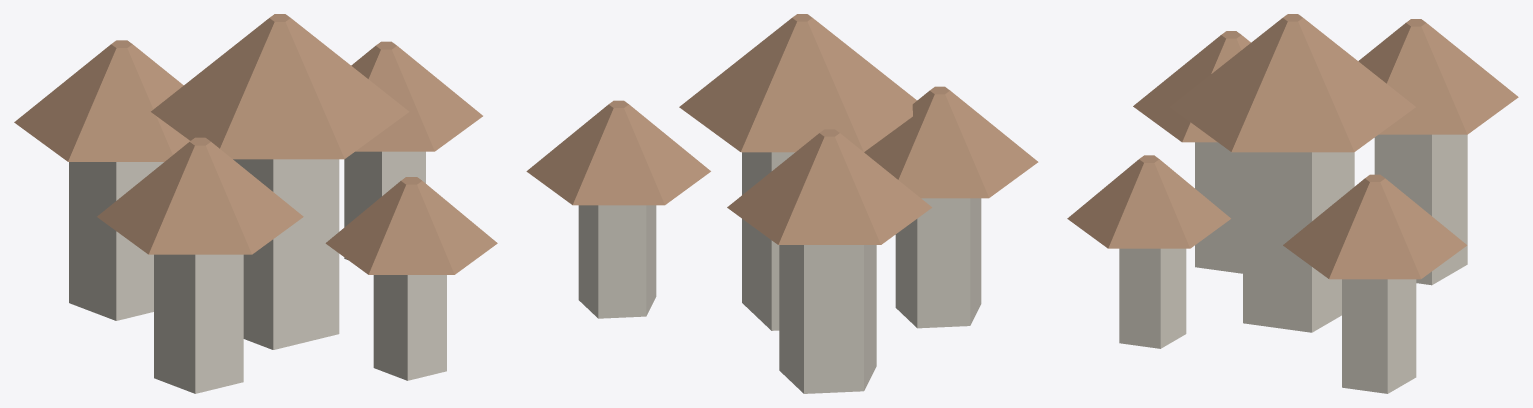
File: 20_Mushroom_Group.glb
3 renders of one model, left to right at view 1: azimuth 30°, elevation 25°; view 2: azimuth 150°, elevation 25°; view 3: azimuth 270°, elevation 25°, orthographic. The views are drawn at different scales.
Parts seen in each view (by area): view 1: MushroomGroup_Cap1, MushroomGroup_Stem1, MushroomGroup_Cap5, MushroomGroup_Cap3, MushroomGroup_Stem5, MushroomGroup_Stem3, MushroomGroup_Cap4, MushroomGroup_Cap2, MushroomGroup_Stem4, MushroomGroup_Stem2; view 2: MushroomGroup_Cap1, MushroomGroup_Cap3, MushroomGroup_Stem3, MushroomGroup_Cap2, MushroomGroup_Cap5, MushroomGroup_Stem5, MushroomGroup_Stem2, MushroomGroup_Stem1; view 3: MushroomGroup_Cap1, MushroomGroup_Stem1, MushroomGroup_Cap2, MushroomGroup_Cap3, MushroomGroup_Cap4, MushroomGroup_Stem2, MushroomGroup_Stem3, MushroomGroup_Stem4, MushroomGroup_Stem5, MushroomGroup_Cap5.
Part boxes in pixels (<box>): MushroomGroup_Cap1: <box>151,14,409,159</box>; MushroomGroup_Stem1: <box>233,159,339,349</box>; MushroomGroup_Cap5: <box>97,137,303,254</box>; MushroomGroup_Cap3: <box>14,40,189,161</box>; MushroomGroup_Stem5: <box>154,254,243,393</box>; MushroomGroup_Stem3: <box>69,162,163,320</box>; MushroomGroup_Cap4: <box>325,177,497,274</box>; MushroomGroup_Cap2: <box>351,41,482,151</box>; MushroomGroup_Stem4: <box>373,275,446,380</box>; MushroomGroup_Stem2: <box>344,151,425,259</box>; MushroomGroup_Cap1: <box>679,14,916,152</box>; MushroomGroup_Cap3: <box>727,129,931,244</box>; MushroomGroup_Stem3: <box>779,245,876,393</box>; MushroomGroup_Cap2: <box>526,100,710,205</box>; MushroomGroup_Cap5: <box>864,86,1038,198</box>; MushroomGroup_Stem5: <box>895,198,981,328</box>; MushroomGroup_Stem2: <box>578,205,656,318</box>; MushroomGroup_Stem1: <box>742,152,794,330</box>; MushroomGroup_Cap1: <box>1170,14,1415,152</box>; MushroomGroup_Stem1: <box>1243,152,1354,332</box>; MushroomGroup_Cap2: <box>1283,174,1467,279</box>; MushroomGroup_Cap3: <box>1358,19,1518,134</box>; MushroomGroup_Cap4: <box>1067,155,1230,248</box>; MushroomGroup_Stem2: <box>1342,279,1416,393</box>; MushroomGroup_Stem3: <box>1374,134,1467,285</box>; MushroomGroup_Stem4: <box>1119,248,1186,348</box>; MushroomGroup_Stem5: <box>1195,142,1242,273</box>; MushroomGroup_Cap5: <box>1133,31,1250,142</box>.
Size of the model in its own units: 0.2205 by 0.156 by 0.22.
